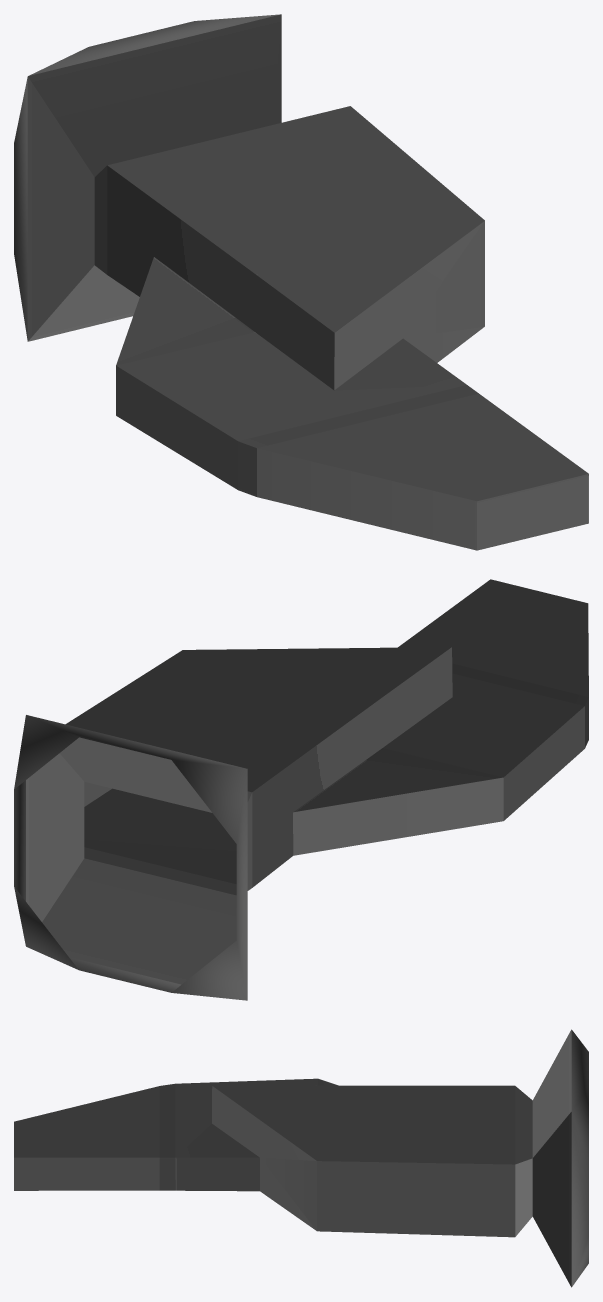
The model's file is stat_top9.glb.
3 renders of one model, top to bottom at view 1: azimuth 30°, elevation 25°; view 2: azimuth 150°, elevation 25°; view 3: azimuth 270°, elevation 25°, orthographic. The views are drawn at different scales.
Visible parts, largest first — view 1: group_19; view 2: group_19; view 3: group_19.
Boxes of the visible parts, x1,y1,x2,y2 form: group_19: (14, 14, 588, 550); group_19: (14, 579, 588, 1000); group_19: (14, 1029, 588, 1287).
Bounding box in the file's own units: 11363 × 7581 × 22251.
2 materials, 2 textured.
